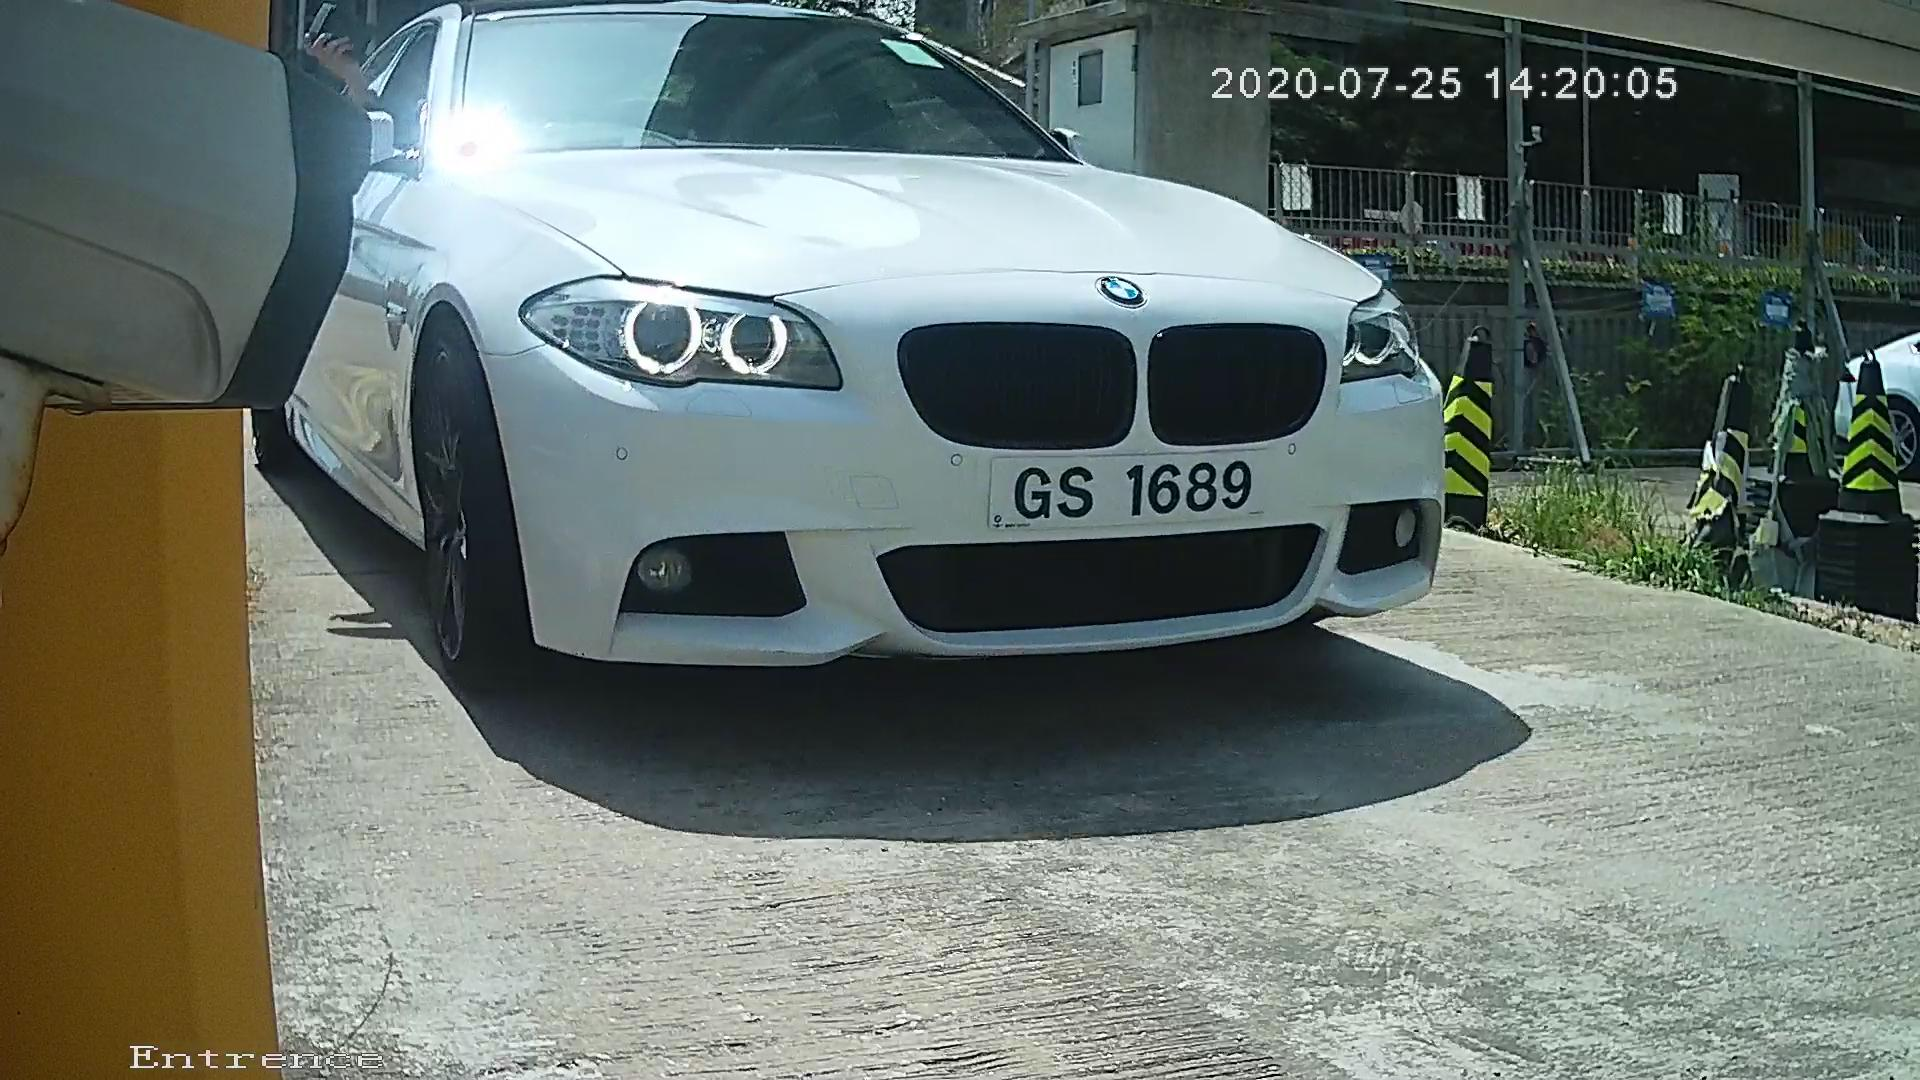Car: (189, 1, 1518, 772)
License Plate: (978, 434, 1286, 560)
